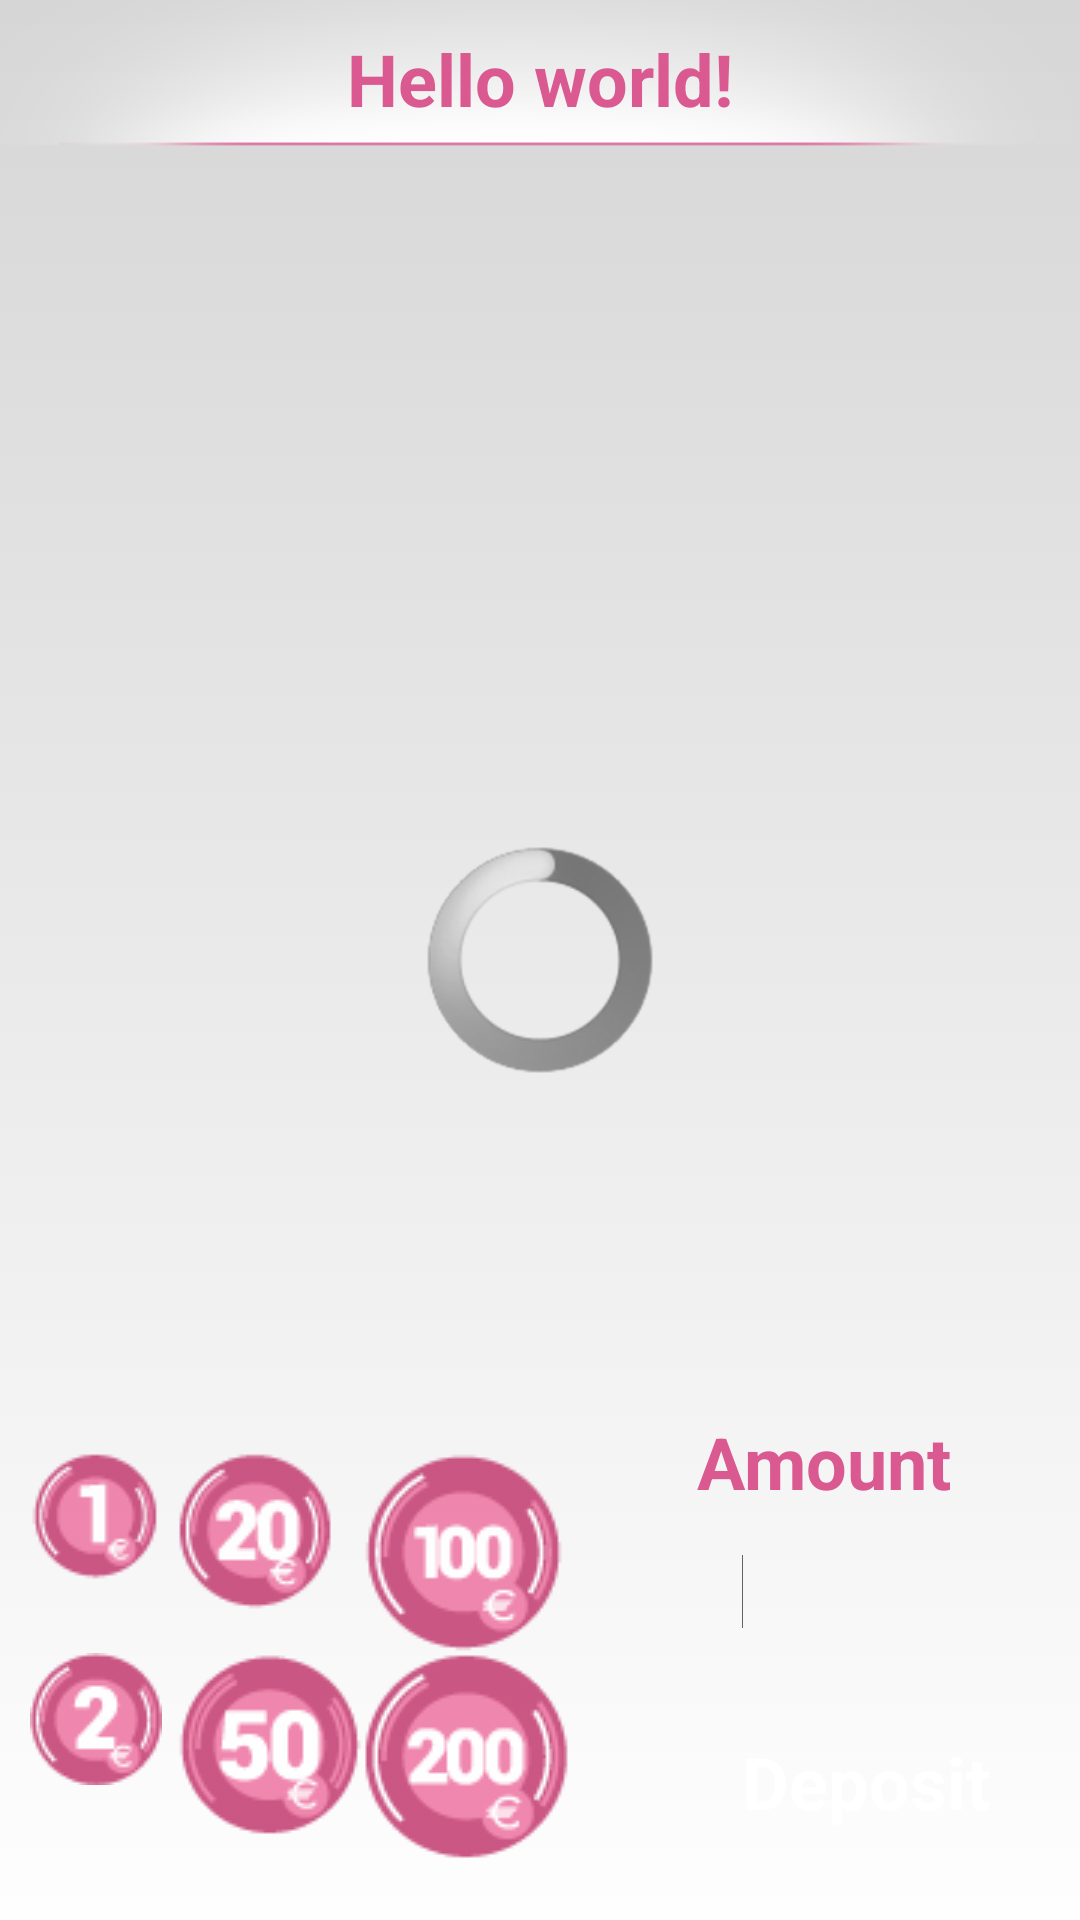

Point at icon controls on the screen. Image size 1080px x 1920px, points as point (x, y).
moneda: point (95, 1516), point (255, 1531), point (463, 1552), point (96, 1719), point (270, 1744), point (466, 1756)
